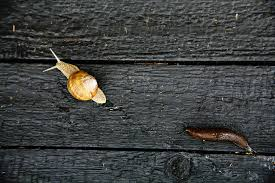slug: (182, 127, 256, 154)
snail: (42, 46, 108, 105)
